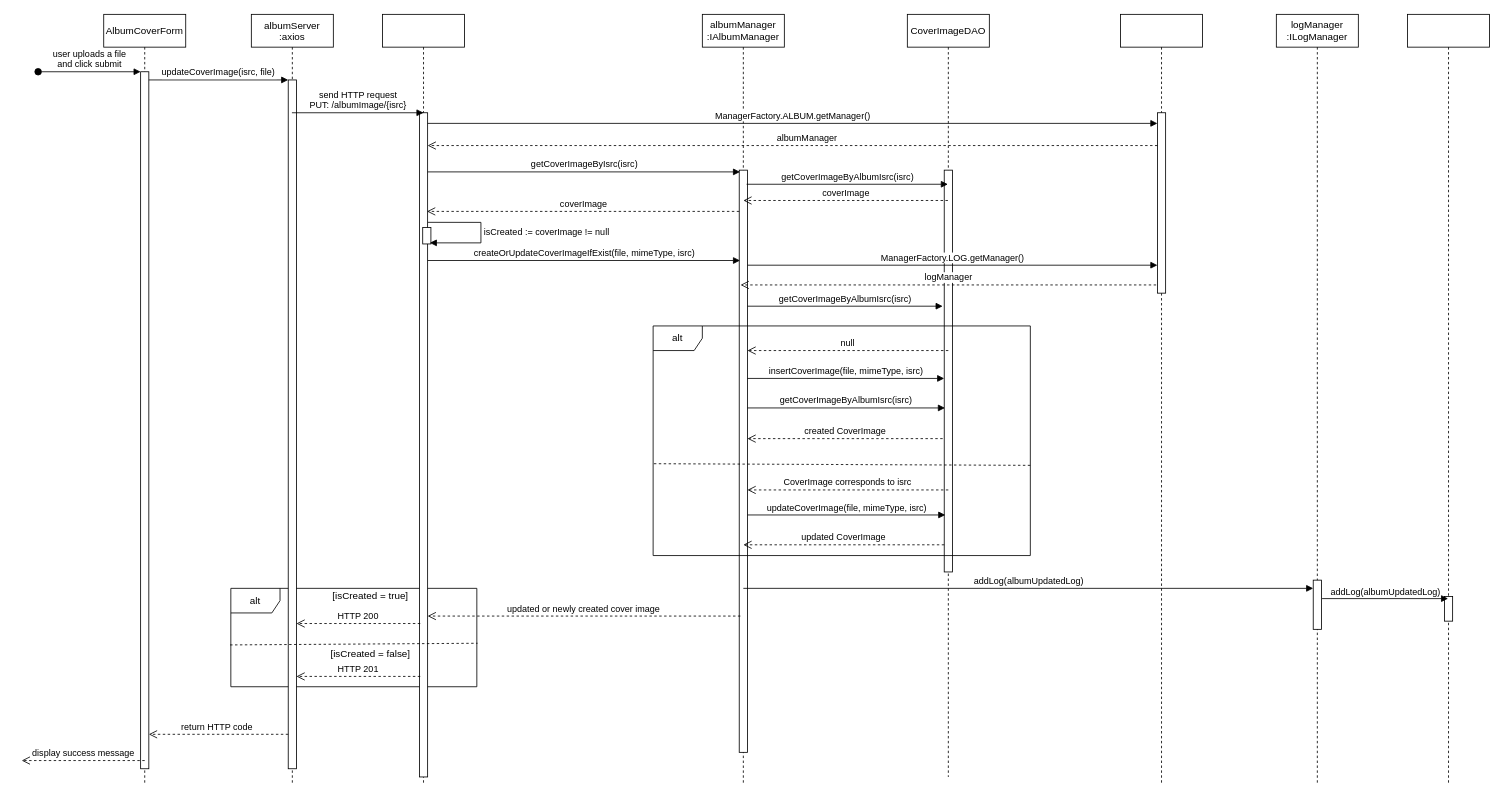
Image size: 1504x800. Some labels were removed from this diagram. The shapes that lost their labels are listed below. From the top down, each one's box as (x1, y1, x2, y2) in pixels, then its label:
(382, 14, 465, 785): CoverImageREST
(1120, 14, 1203, 785): ManagerFactory
(1407, 14, 1490, 785): LogDAO
